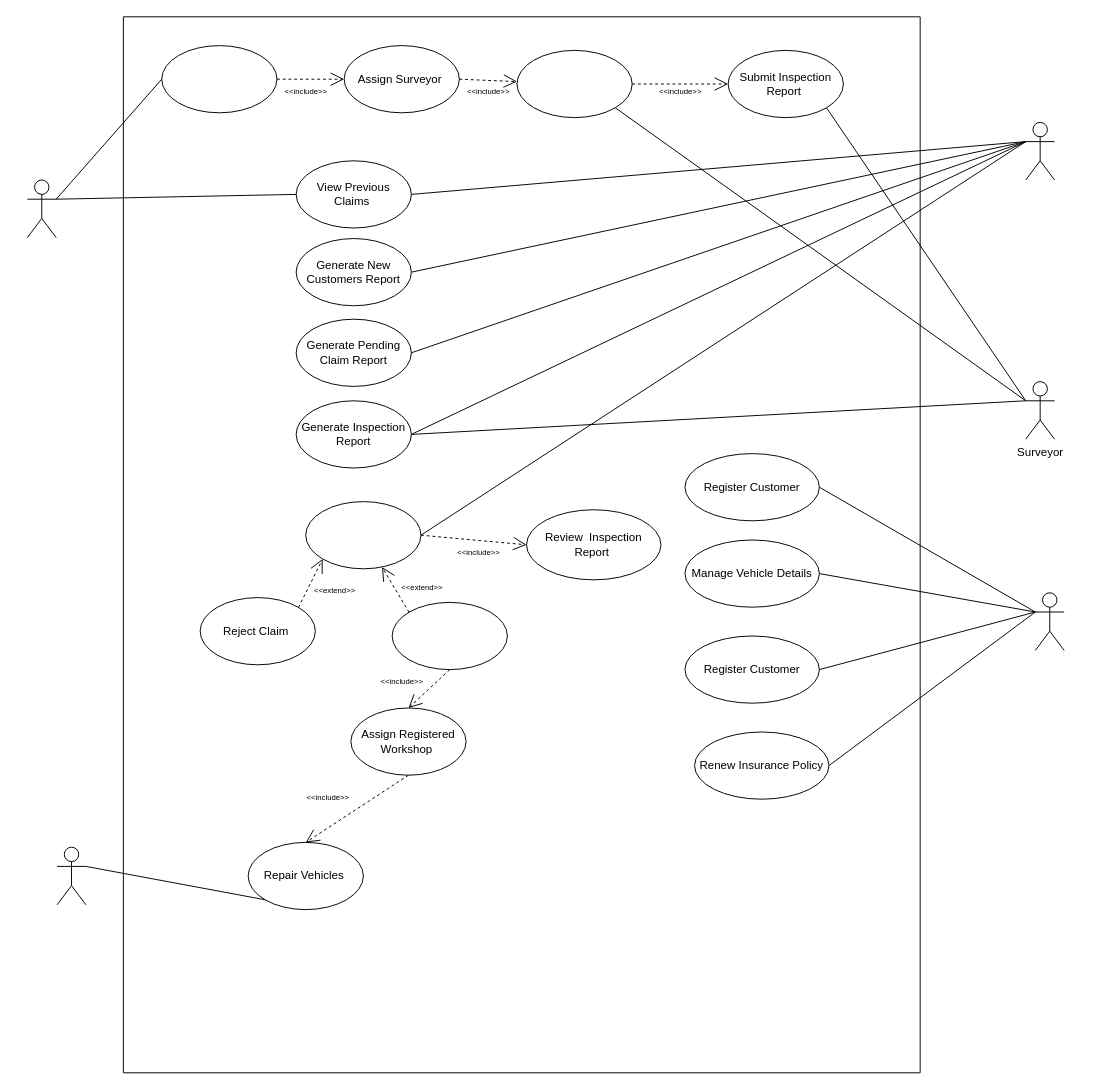
Image size: 1093x1090. Some labels were removed from this diagram. The shapes that lost their labels are listed below. From the top down, each one's centre as x and y in pixels, then its label:
At (x=219, y=79): "Submit Claim".
At (x=574, y=83): "Inspect Damaged Vehicle".
At (x=1040, y=150): "Manager".
At (x=41, y=208): "Customer".
At (x=363, y=535): "Process Claim".
At (x=449, y=635): "Approve Claim".
At (x=1049, y=621): "Salesman".
At (x=71, y=875): "Registered Workshop".
